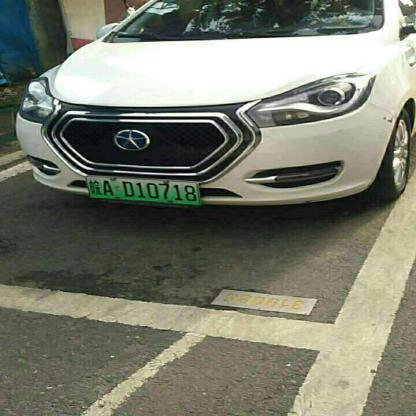lp: (87, 178, 198, 204)
